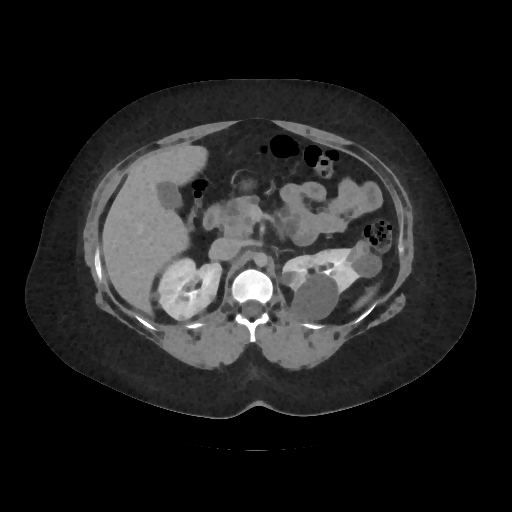Lesion: (344, 235, 371, 267)
